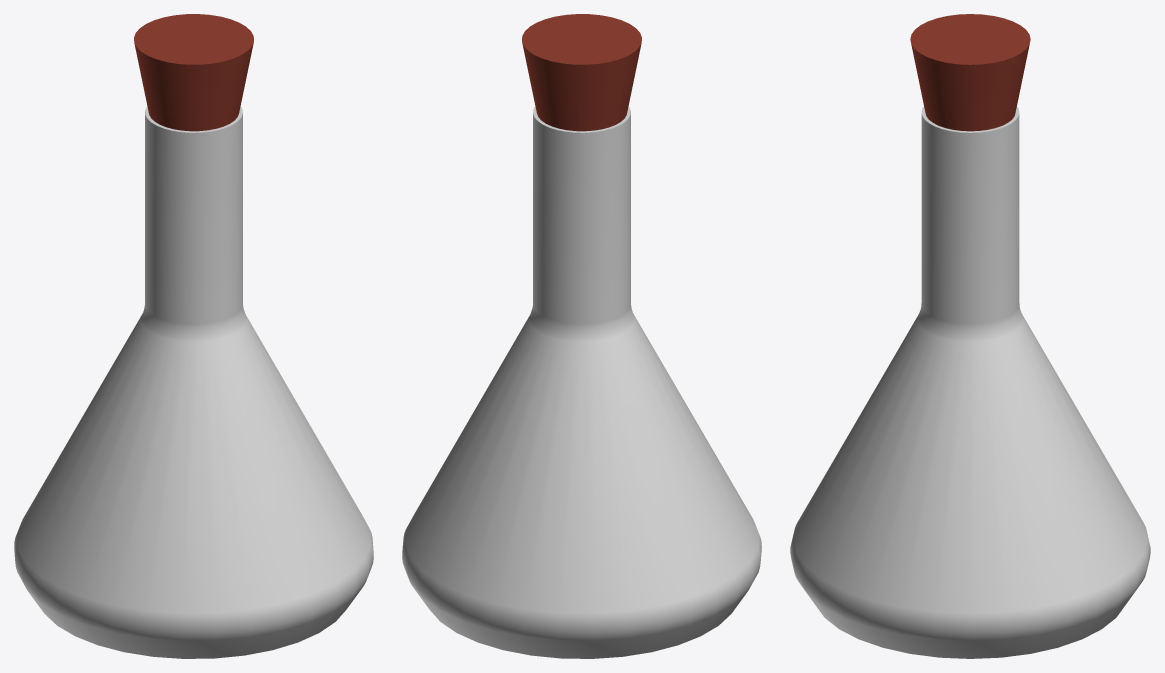
Rendered from Fiole.fbx.
3 renders of one model, left to right at view 1: azimuth 30°, elevation 25°; view 2: azimuth 150°, elevation 25°; view 3: azimuth 270°, elevation 25°, orthographic.
Visible parts, largest first — view 1: fiole, bouchon; view 2: fiole, bouchon; view 3: fiole, bouchon.
Boxes of the visible parts, x1,y1,x2,y2 form: fiole: [14, 106, 373, 658]; bouchon: [134, 14, 253, 131]; fiole: [402, 106, 761, 658]; bouchon: [522, 14, 641, 131]; fiole: [790, 106, 1150, 658]; bouchon: [910, 14, 1030, 131].
Size of the model in its own units: 228 by 386 by 228.
